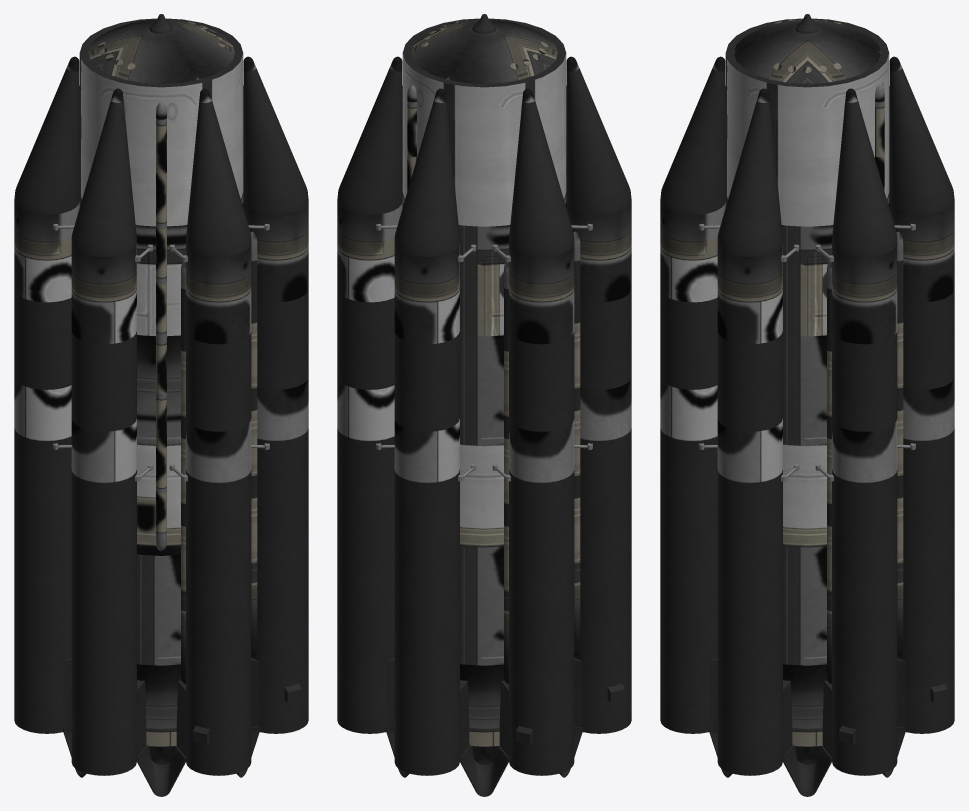
Rendered from fuel1.fbx.
3 views of the same model, side by side, from view 1: azimuth 30°, elevation 25°; view 2: azimuth 150°, elevation 25°; view 3: azimuth 270°, elevation 25° (orthographic).
Visible parts, largest first — view 1: mesh; view 2: mesh; view 3: mesh.
Part boxes in pixels (x1=…): mesh: x1=14, y1=14, x2=308, y2=796; mesh: x1=337, y1=14, x2=631, y2=796; mesh: x1=660, y1=14, x2=954, y2=796.
Size of the model in its own units: 4.15 by 12.51 by 4.5.
